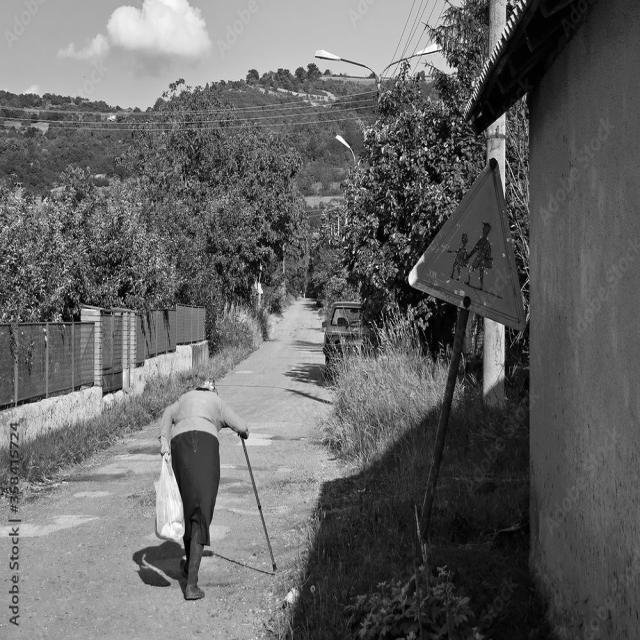idoso em pe: (146, 360, 254, 602)
